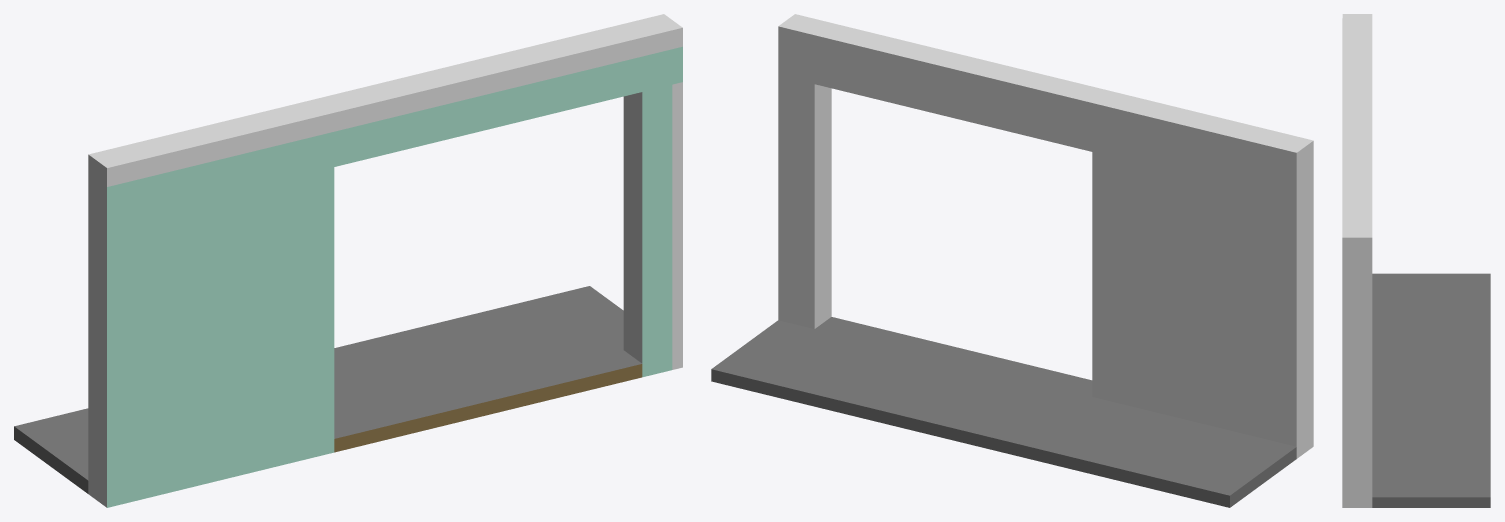
File: FacadeLiving.fbx
The picture shows the model from 3 angles, left to right: view 1: azimuth 30°, elevation 25°; view 2: azimuth 150°, elevation 25°; view 3: azimuth 270°, elevation 25°; orthographic projection. The views are drawn at different scales.
Visible parts, largest first — view 1: Flat.004; view 2: Flat.004; view 3: Flat.004.
Part boxes in pixels (<box>): Flat.004: <box>14,14,682,507</box>; Flat.004: <box>711,14,1313,507</box>; Flat.004: <box>1342,14,1490,507</box>.
Size of the model in its own units: 4432 by 2500 by 1240.
